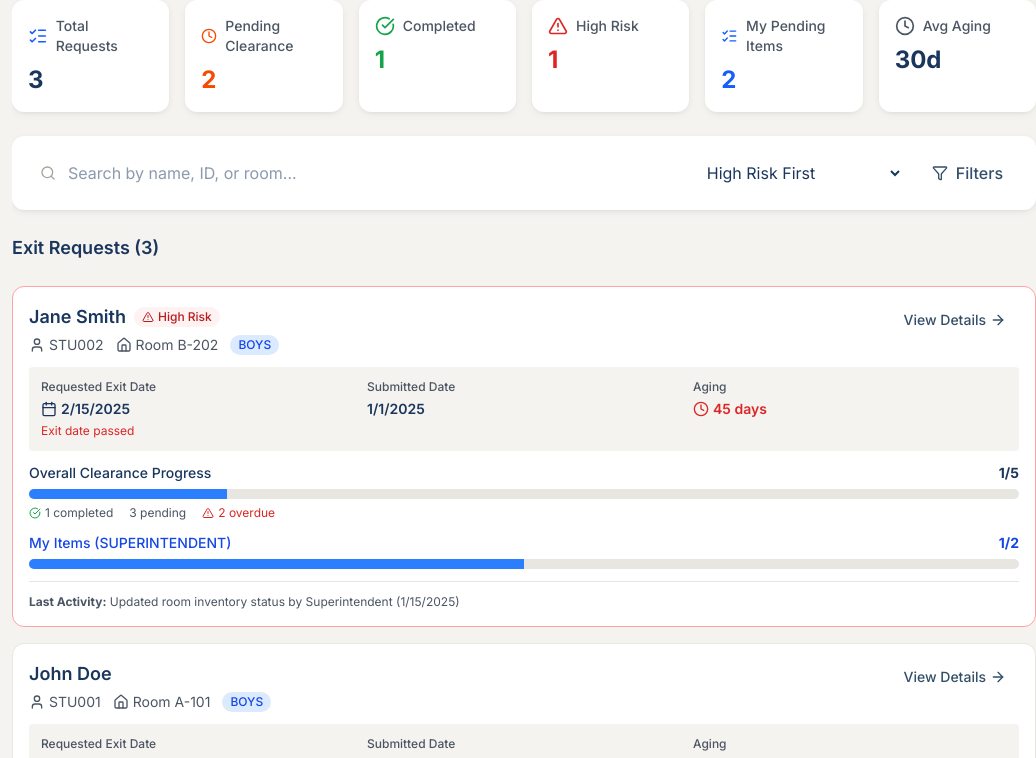
Scenario: Task 20.3 - Admin Clearance Dashboards › ExitDashboard Component › should filter requests when search query entered
The width and height of the screenshot is (1036, 758).
Step 1. Type "John" into the field with placeholder "Search by name, ID, or room..." → (359, 173), box left=28, top=161, right=691, bottom=185
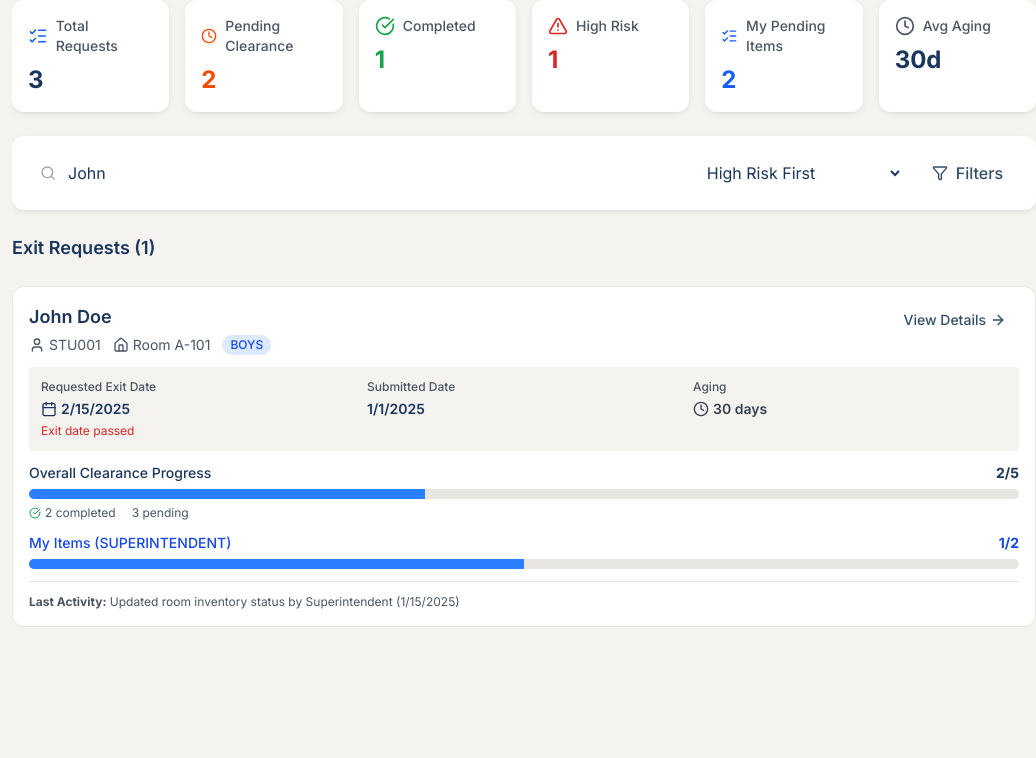
Expected: the heading "Exit Requests (1)" is shown, left=12, top=234, right=155, bottom=262
